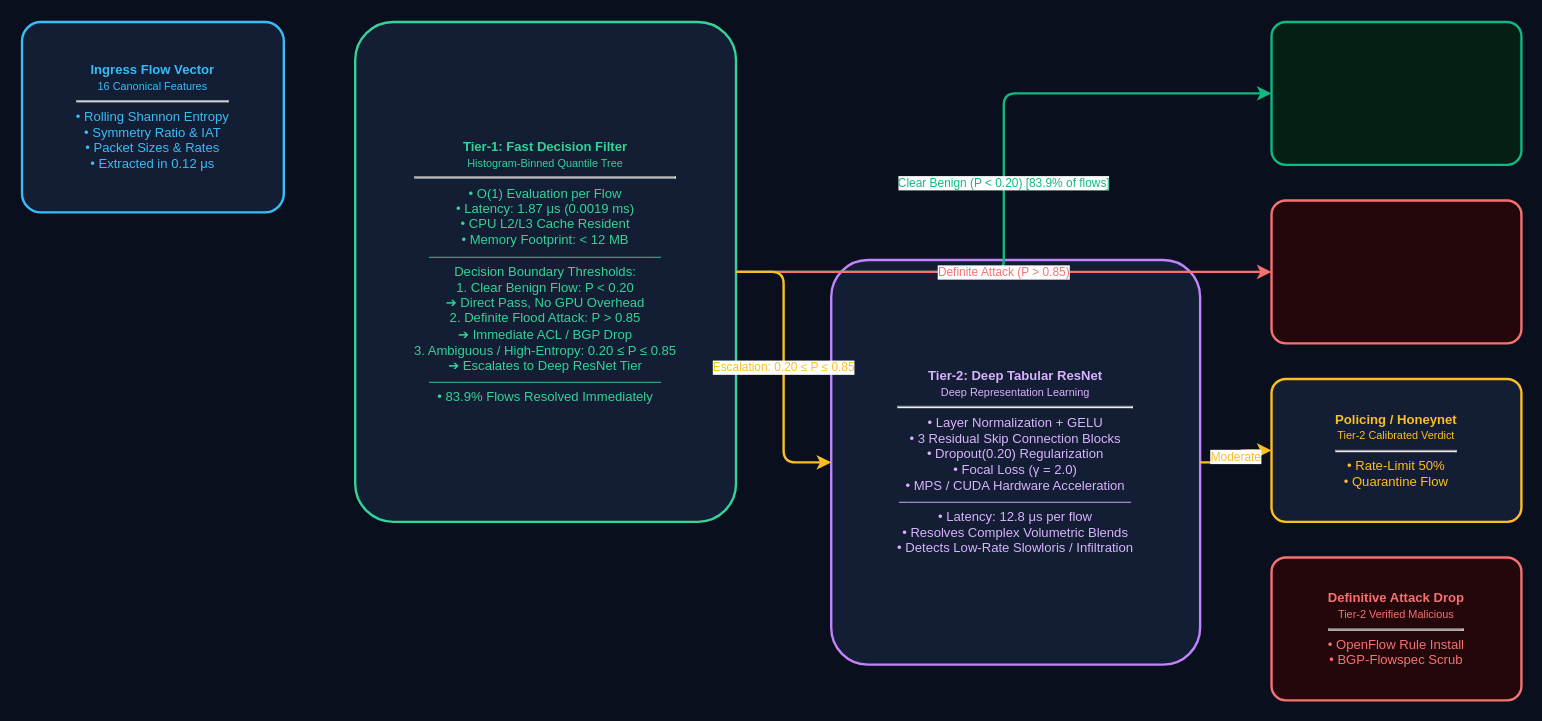
This 1542x721 diagram has some shape labels left out. The box of each missing label's shape, as (x1, y1, x2, y2) in pixels:
Fast DROP P > 0.85 • Instant IP Cutoff • High Flood Protection: (1270, 199, 1522, 344)
Line-Rate PASS P < 0.20 • Immediate Egress • 0 ms Queuing Delay: (1270, 20, 1522, 165)
